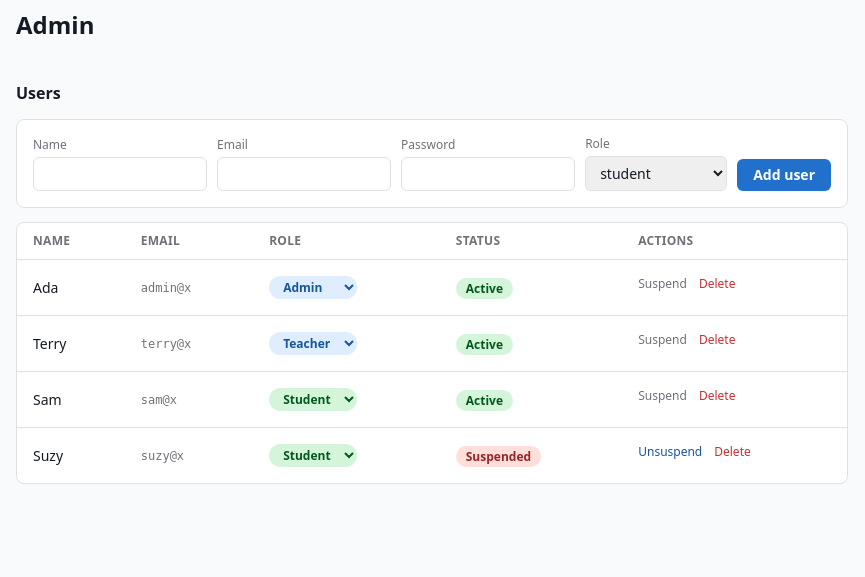
Scenario: AdminPage › shows the API error message when a request fails
This screenshot has width=865, height=577.
Check: the text "Ada" is shown, box [17, 260, 125, 316]
Type "Dupe" into the field named "New user name" at (120, 174), box [33, 157, 207, 191]
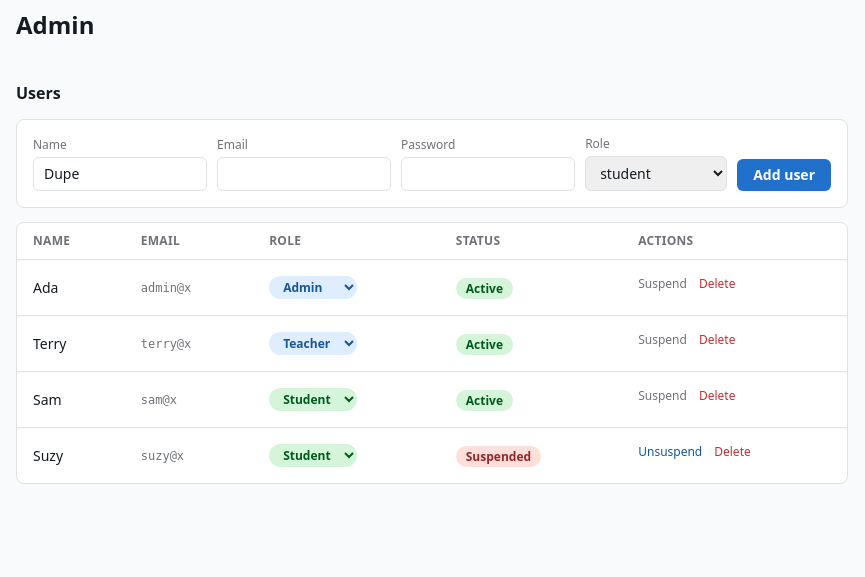
Type "admin@x" into the field named "New user email" at (304, 174), box [217, 157, 391, 191]
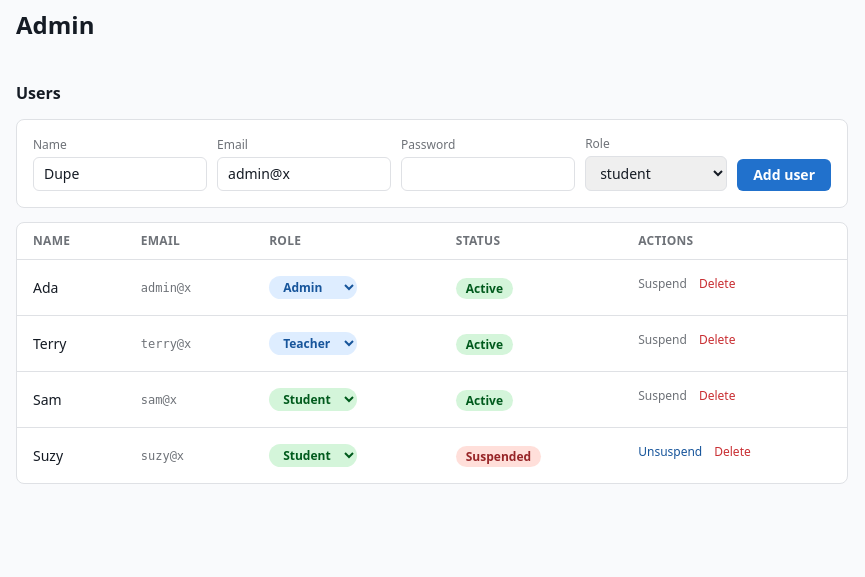
Type "password123" into the password field named "New user password" at (488, 174), box [401, 157, 575, 191]
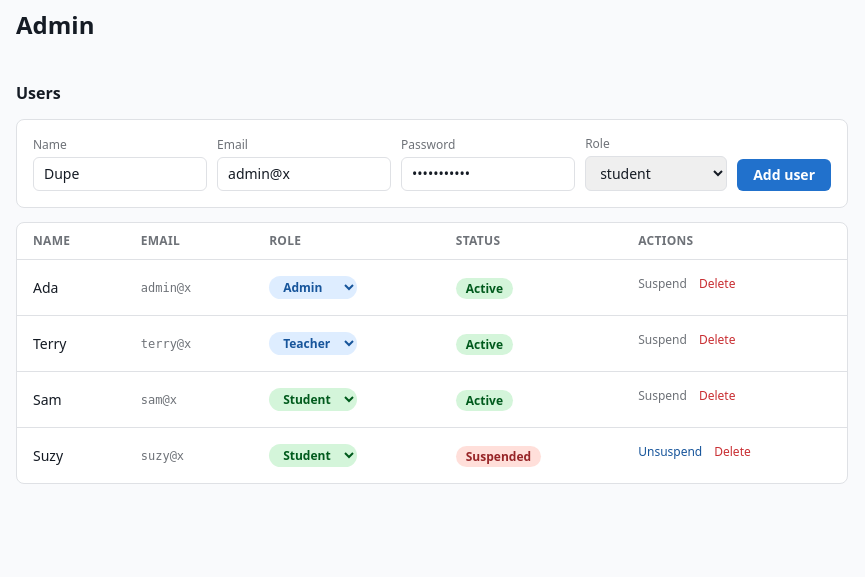
Click the button "Add user" at (784, 175), box [737, 159, 831, 191]
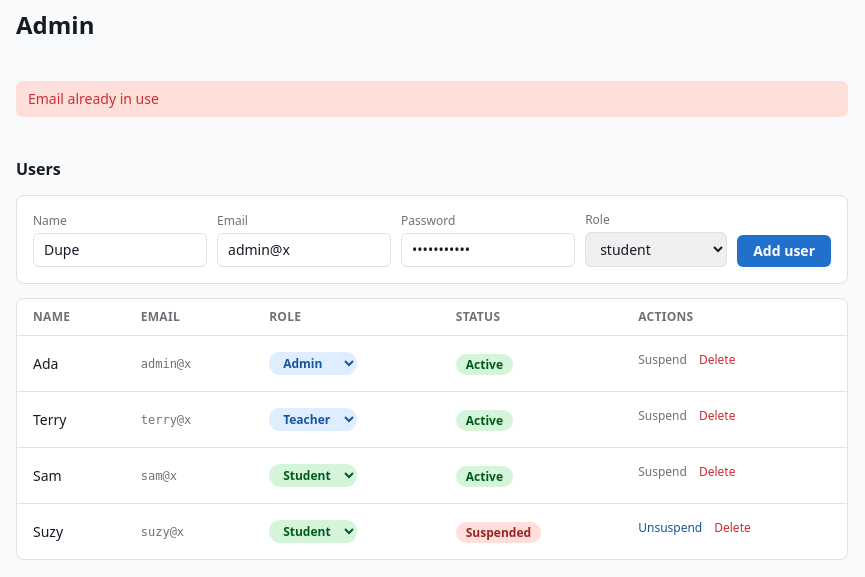
Check: the message reads "Email already in use", box [28, 89, 159, 108]
